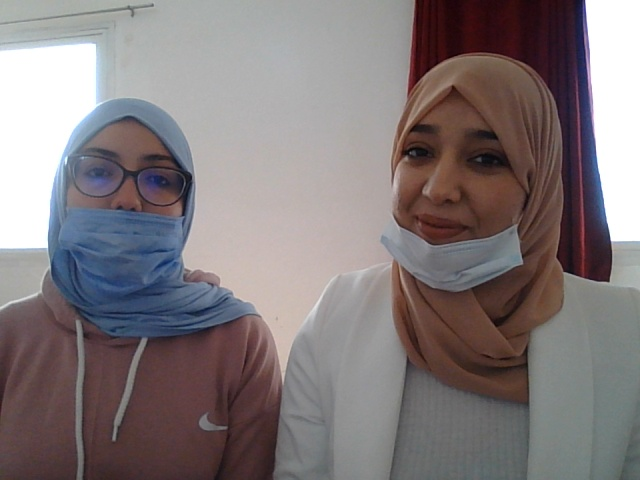mask_weared_incorrect: (381, 63, 537, 294), (48, 104, 200, 294)
